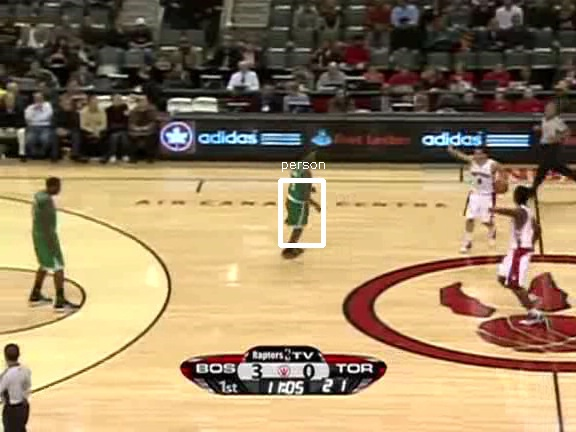person: (284, 158, 318, 239), (283, 158, 317, 239), (285, 158, 319, 239), (284, 157, 318, 238), (284, 159, 318, 240)
target_negative: (168, 73, 396, 204), (221, 270, 343, 374), (176, 147, 338, 175), (433, 314, 557, 346), (546, 117, 573, 196), (237, 256, 249, 387)
